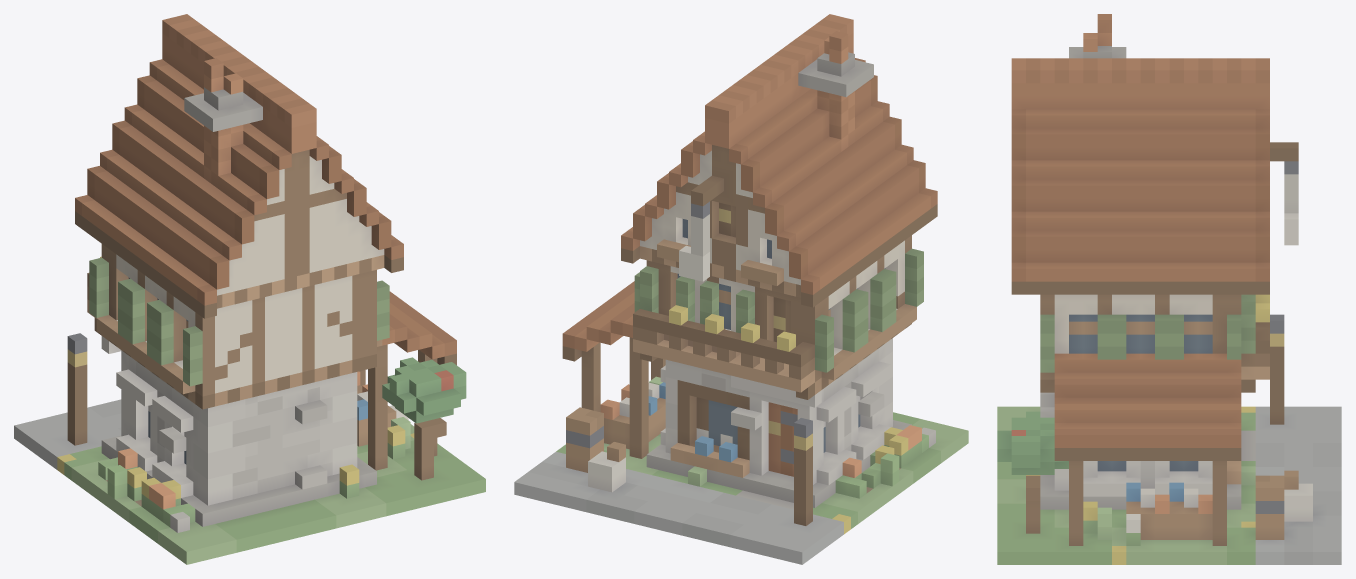
Rendered from house_merchants.v1.glb.
The picture shows the model from 3 angles, left to right: view 1: azimuth 30°, elevation 25°; view 2: azimuth 150°, elevation 25°; view 3: azimuth 270°, elevation 25°; orthographic projection. The views are drawn at different scales.
Visible parts, largest first — view 1: house_merchants; view 2: house_merchants; view 3: house_merchants.
Boxes of the visible parts, x1,y1,x2,y2 form: house_merchants: (14,14,485,564); house_merchants: (514,14,968,564); house_merchants: (997,14,1341,564).
Size of the model in its own units: 3 by 4.25 by 3.
